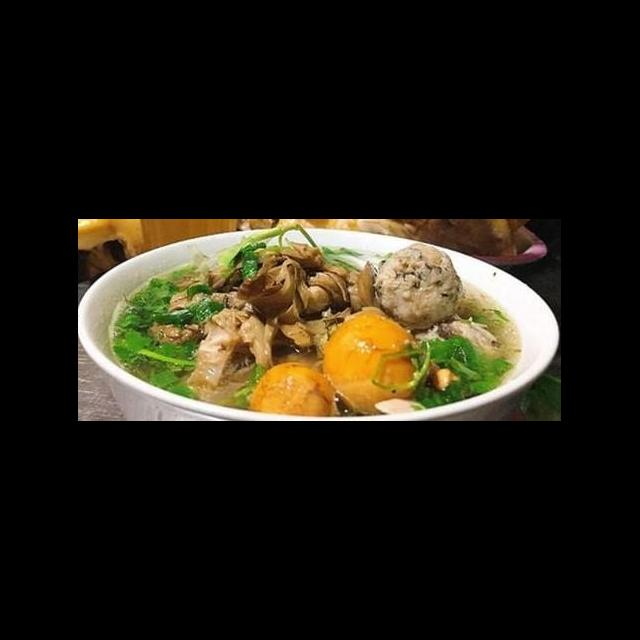trung: (320, 305, 422, 415), (244, 359, 342, 418)
vien moc: (372, 240, 468, 332)
